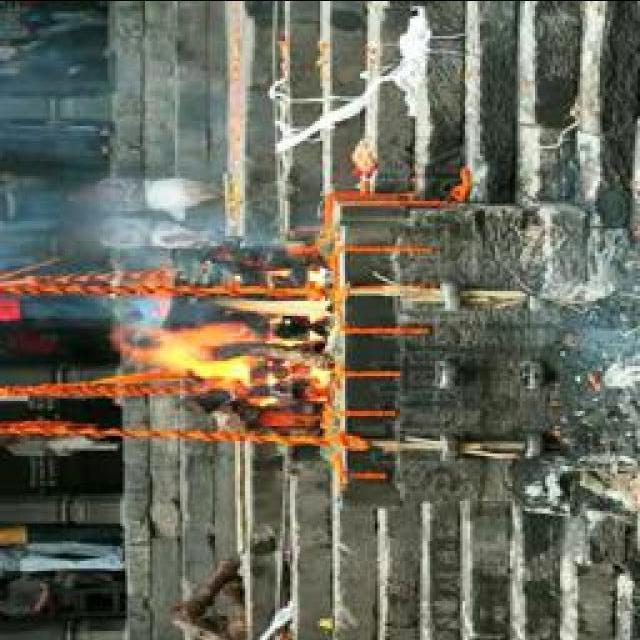Fire: (119, 292, 338, 391)
